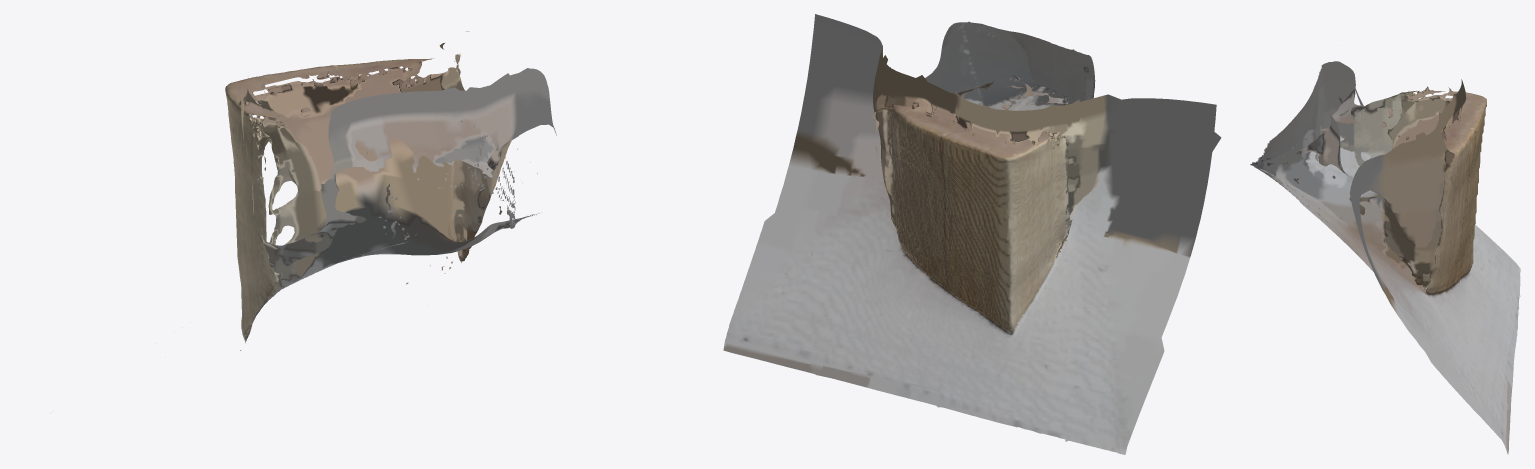
The picture shows the model from 3 angles, left to right: view 1: azimuth 30°, elevation 25°; view 2: azimuth 150°, elevation 25°; view 3: azimuth 270°, elevation 25°; orthographic projection. The views are drawn at different scales.
Size of the model in its own units: 0.00154 by 0.00104 by 0.000944.
